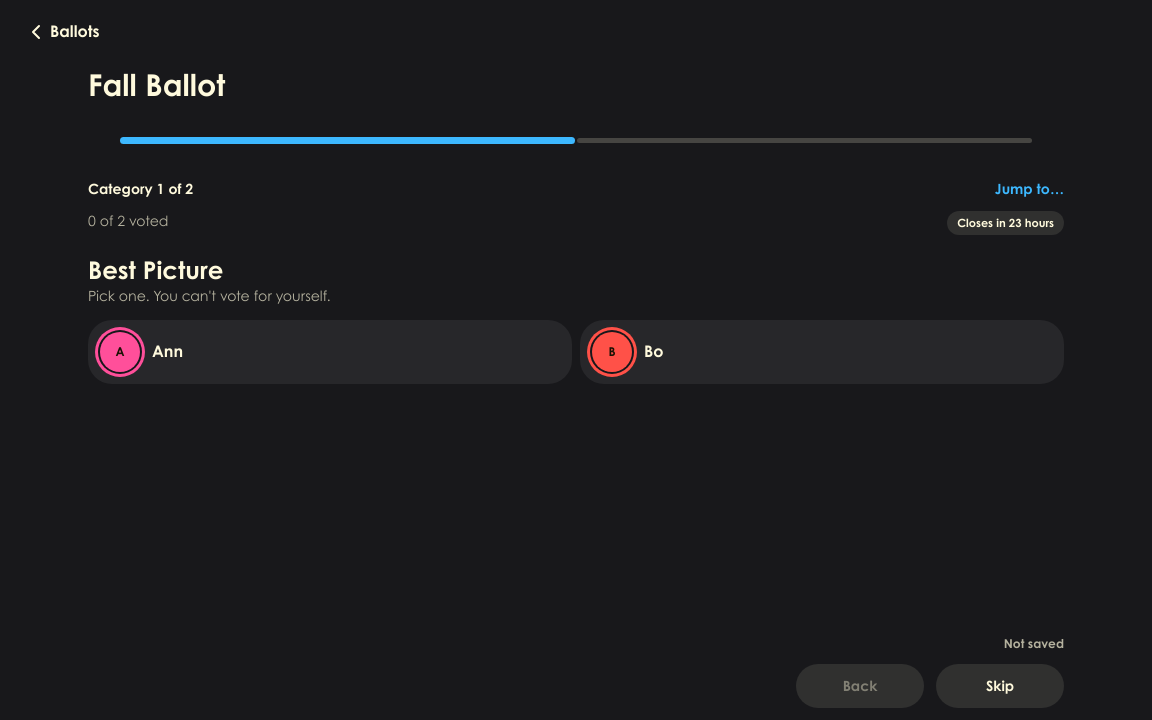
Test: VotePage save failures › RLS denial on a ballot the committee closed by hand reads as closed, not self-vote
Check: the element "Best Picture" is shown, box [88,255,1064,384]
Click the radio button labelled "A Ann": (120, 352) [88,320,572,384]
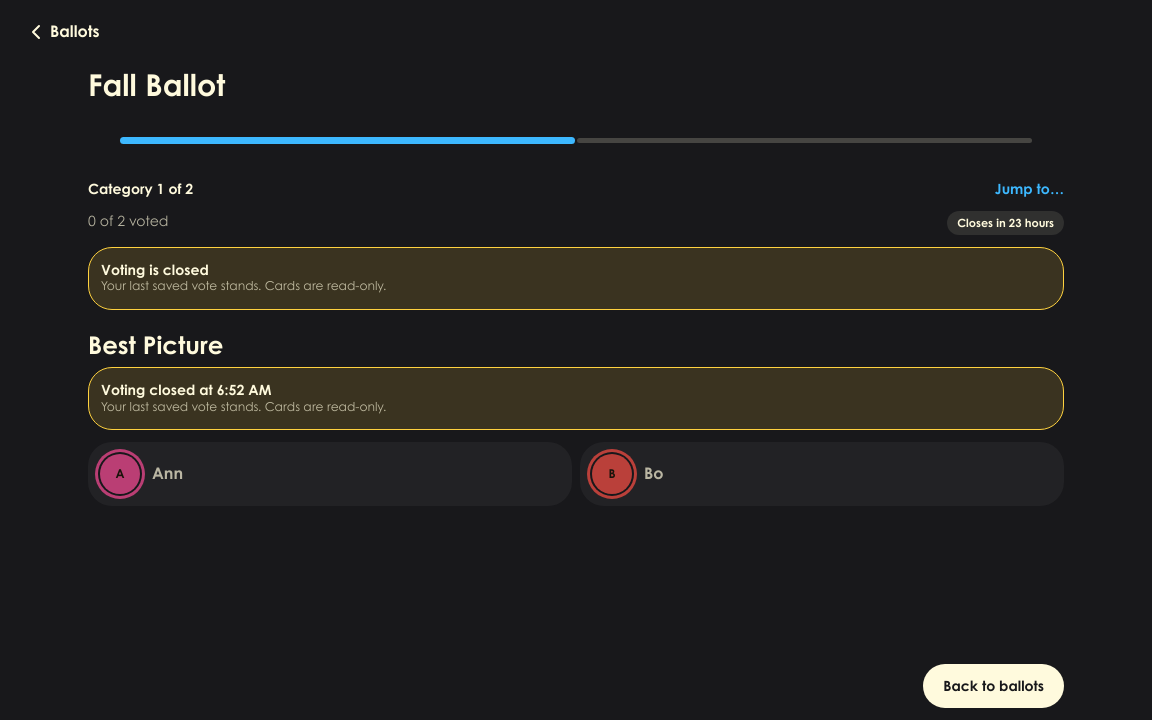
Check: the message "Voting closed at 6:52 AM Your last saved vote stands. Cards are read-only." is shown, box [88,367,1064,430]
